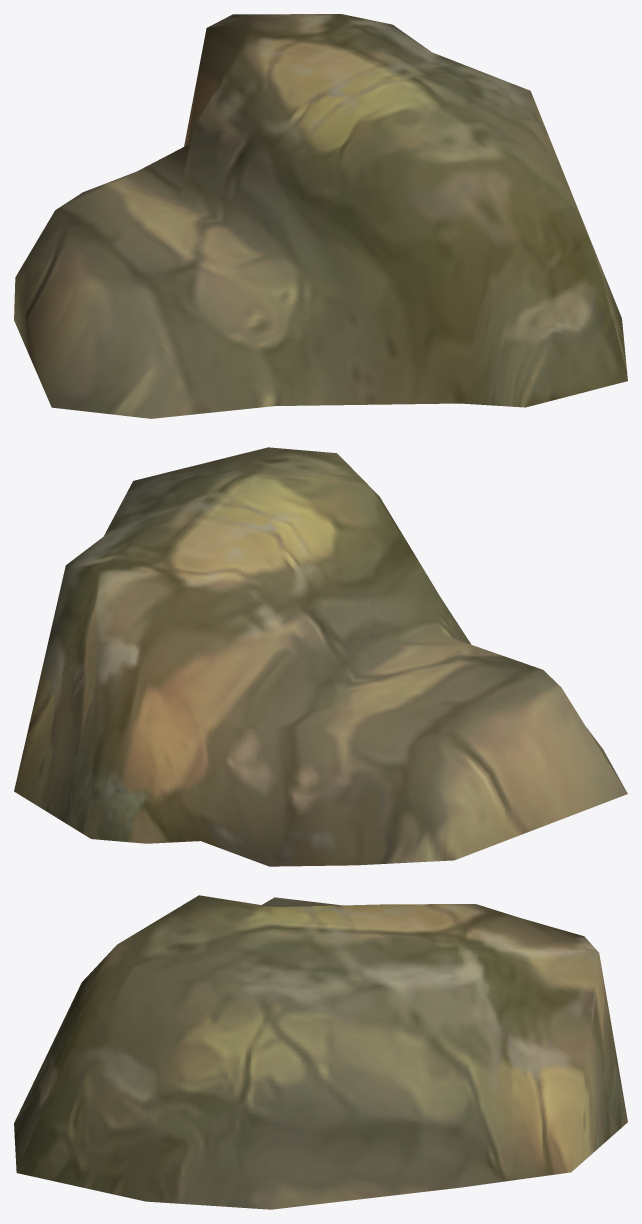
Rendered from daliang_field_d_s01h.fbx.
The picture shows the model from 3 angles, top to bottom: view 1: azimuth 30°, elevation 25°; view 2: azimuth 150°, elevation 25°; view 3: azimuth 270°, elevation 25°; orthographic projection. The views are drawn at different scales.
Visible parts, largest first — view 1: daliang_field_d_s01h; view 2: daliang_field_d_s01h; view 3: daliang_field_d_s01h.
Part boxes in pixels (left/top/right/bottom): daliang_field_d_s01h: left=14, top=14, right=627, bottom=418; daliang_field_d_s01h: left=14, top=447, right=627, bottom=866; daliang_field_d_s01h: left=14, top=895, right=627, bottom=1209.
Bounding box in the file's own units: 217 × 91.86 × 222.
